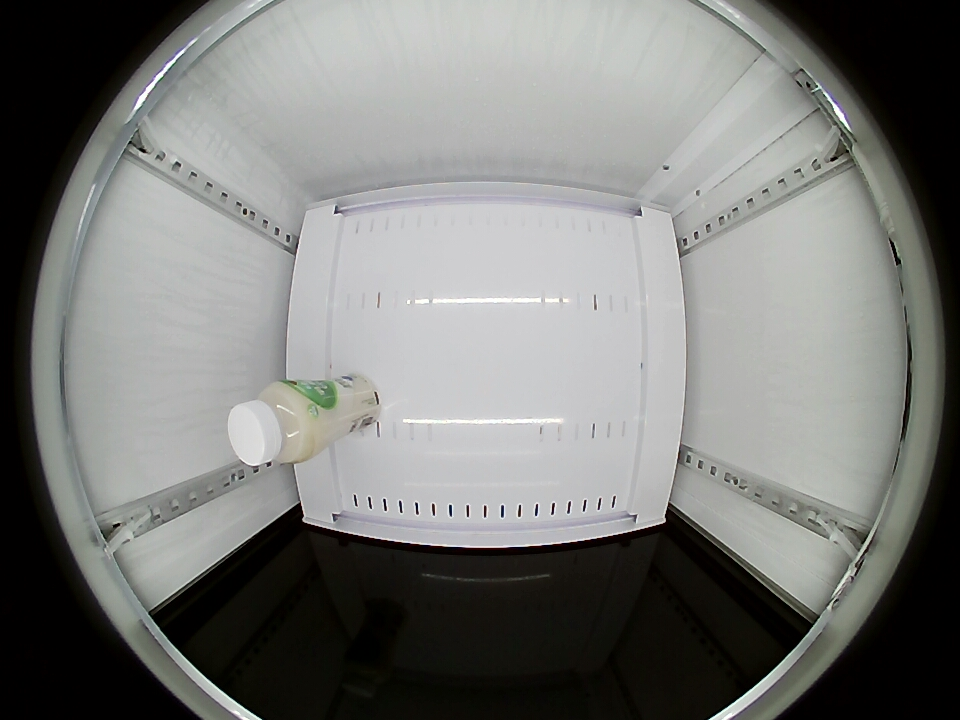yousuanru: (228, 380, 321, 467)
